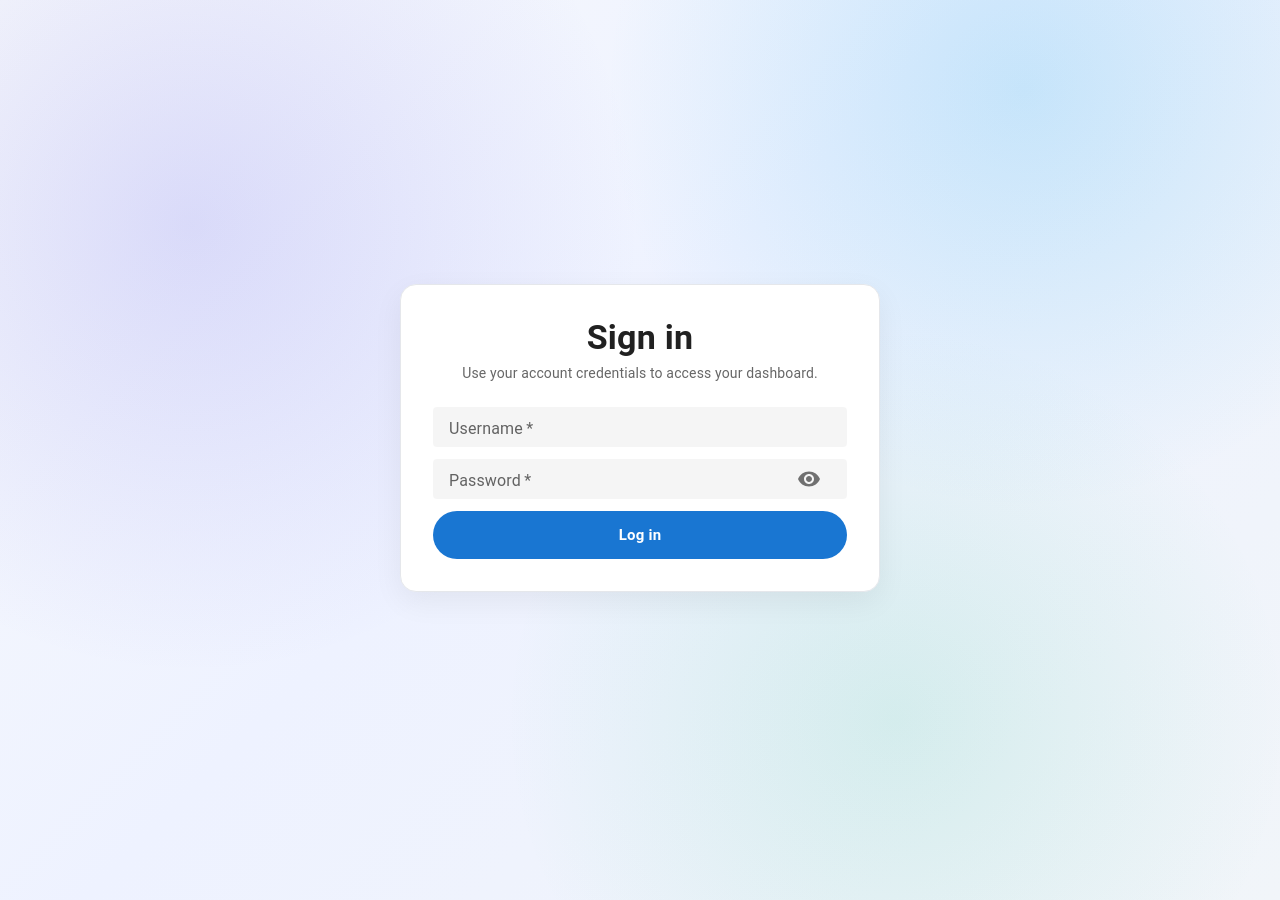
Login component › shows loading indicator when submitting the form
Type "user" into the field labelled "Username *" at (640,428), box [449,416,831,439]
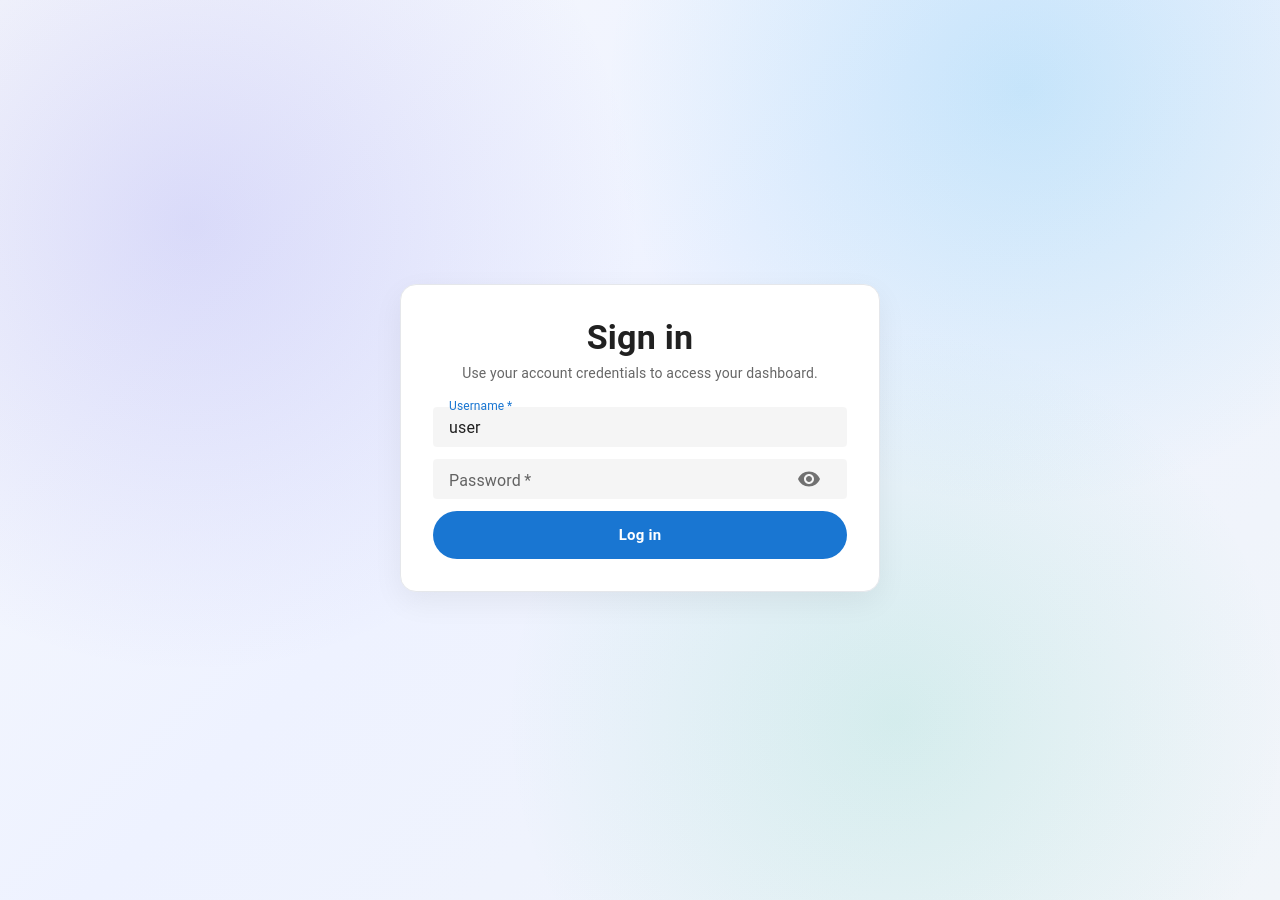
Type "pass" into the password field labelled "Password *" at (615,480), box [449,468,781,491]
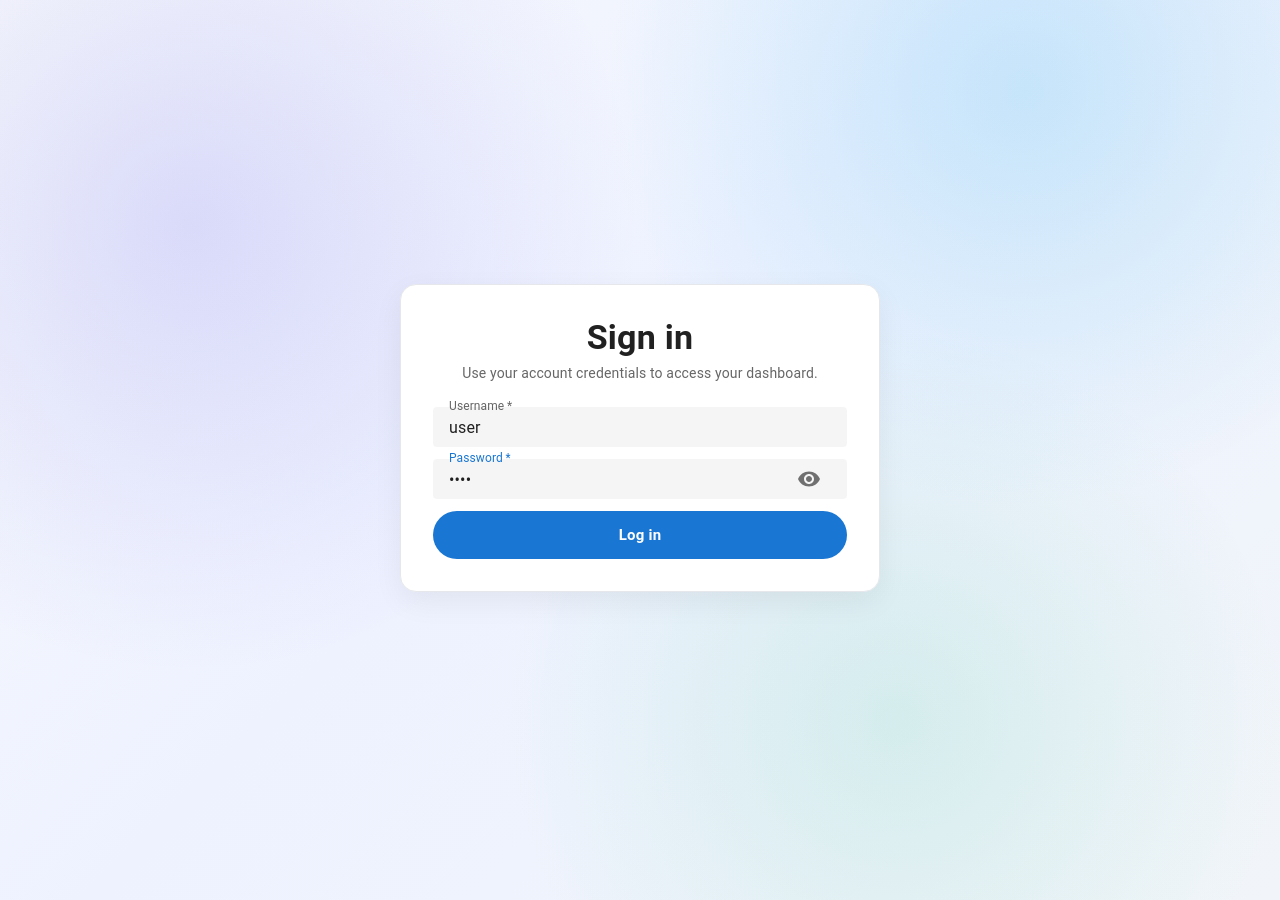
Click the button "Log in" at (640,535), box [433,512,847,558]
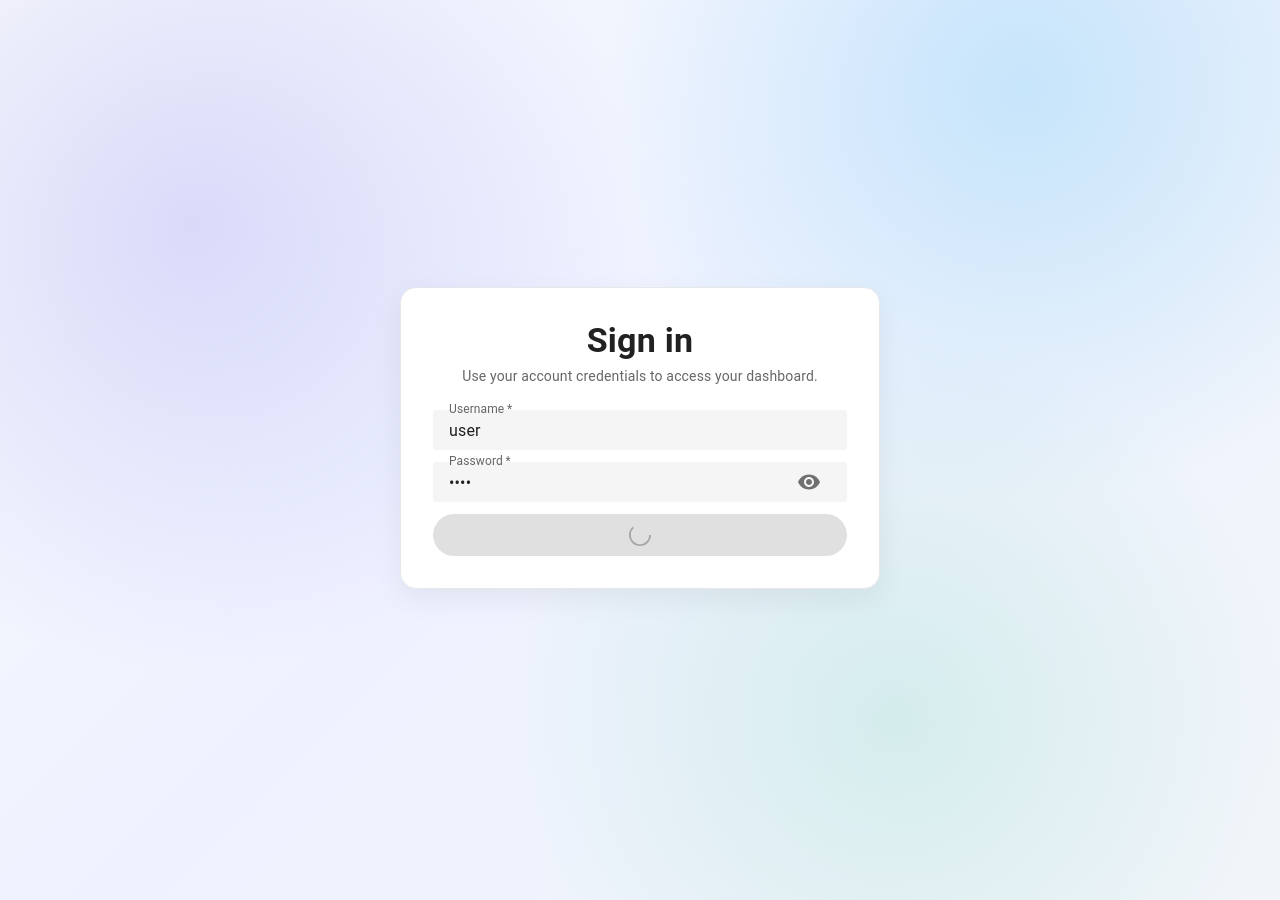
Check: the progress indicator is shown, box [629,524,651,546]
